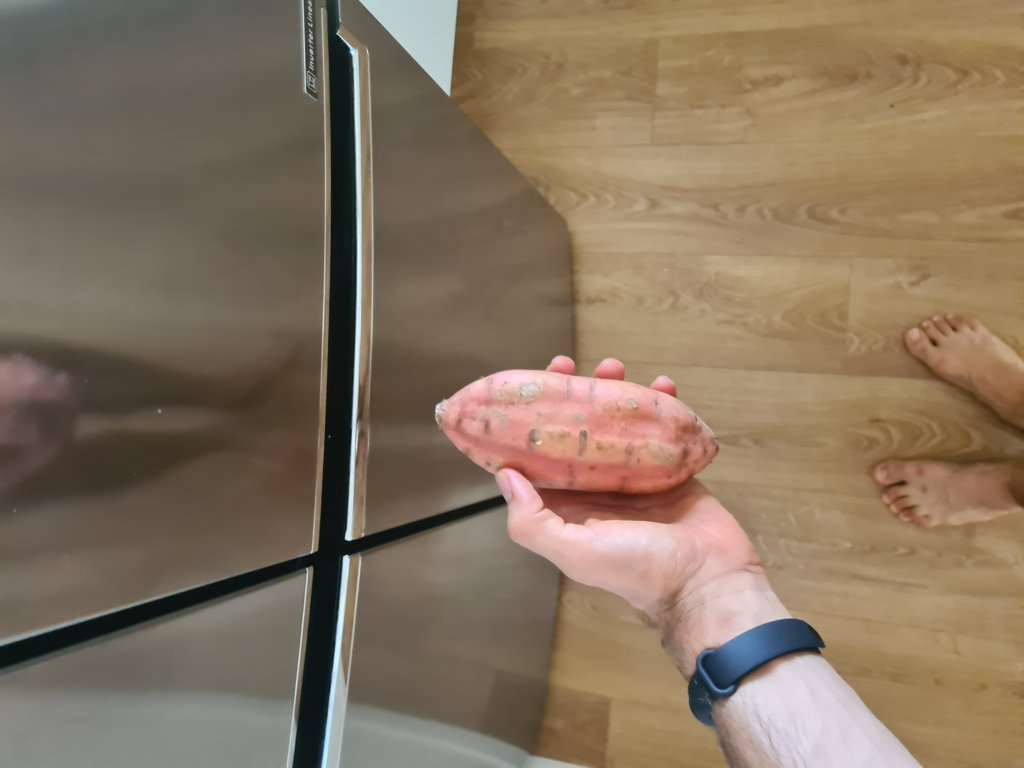Sweet Potatow: (438, 369, 713, 502)
